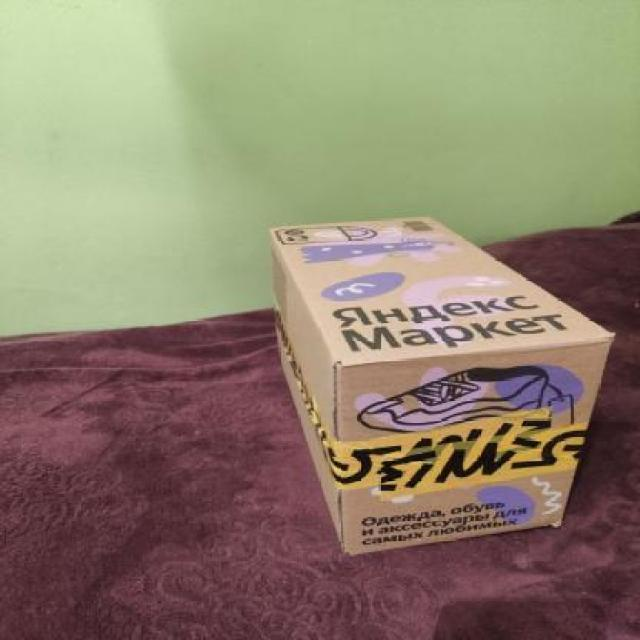box: (272, 206, 618, 568)
